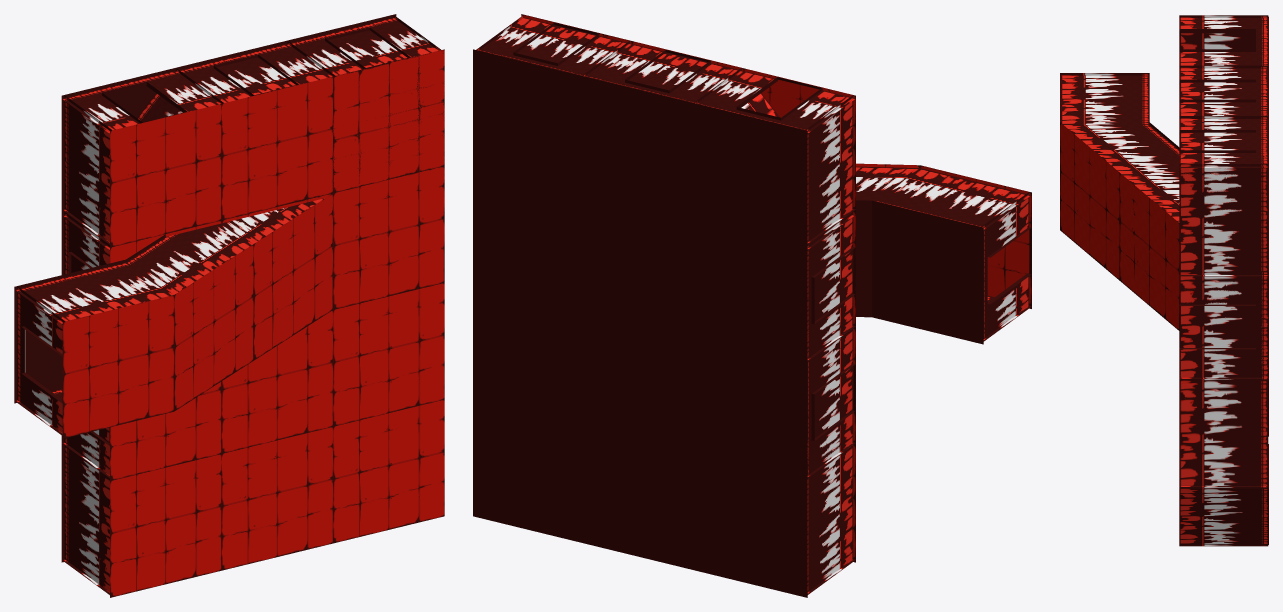
File: EnviroPieces.fbx
3 views of the same model, side by side, from view 1: azimuth 30°, elevation 25°; view 2: azimuth 150°, elevation 25°; view 3: azimuth 270°, elevation 25° (orthographic). The views are drawn at different scales.
Visible parts, largest first — view 1: Room_Room4, Room_HallwayStairs, Room_Room3, Room_Room1, Room_HallwaySBlock, Room_Start; view 2: Room_Room4, Room_HallwayStairs, Room_Room1, Room_Room3, Room_HallwaySBlock, Room_Start; view 3: Room_Room4, Room_HallwayStairs, Room_HallwaySBlock, Room_Room1, Room_Room2, Room_Room3, Room_Start.
Boxes of the visible parts, x1,y1,x2,y2 form: Room_Room4: [61, 14, 444, 570]; Room_HallwayStairs: [14, 166, 444, 438]; Room_Room3: [62, 17, 438, 597]; Room_Room1: [62, 72, 444, 594]; Room_HallwaySBlock: [61, 14, 444, 477]; Room_Start: [61, 15, 393, 444]; Room_Room4: [473, 14, 855, 597]; Room_HallwayStairs: [476, 163, 1031, 344]; Room_Room1: [699, 72, 855, 594]; Room_Room3: [479, 17, 855, 594]; Room_HallwaySBlock: [473, 14, 855, 477]; Room_Start: [473, 45, 814, 324]; Room_Room4: [1179, 16, 1268, 546]; Room_HallwayStairs: [1060, 73, 1268, 378]; Room_HallwaySBlock: [1179, 116, 1268, 370]; Room_Room1: [1179, 17, 1268, 544]; Room_Room2: [1179, 15, 1268, 380]; Room_Room3: [1179, 65, 1268, 488]; Room_Start: [1179, 67, 1268, 436].
Size of the model in its own units: 16 by 16 by 7.
Materials: 1 (1 with a texture image).
